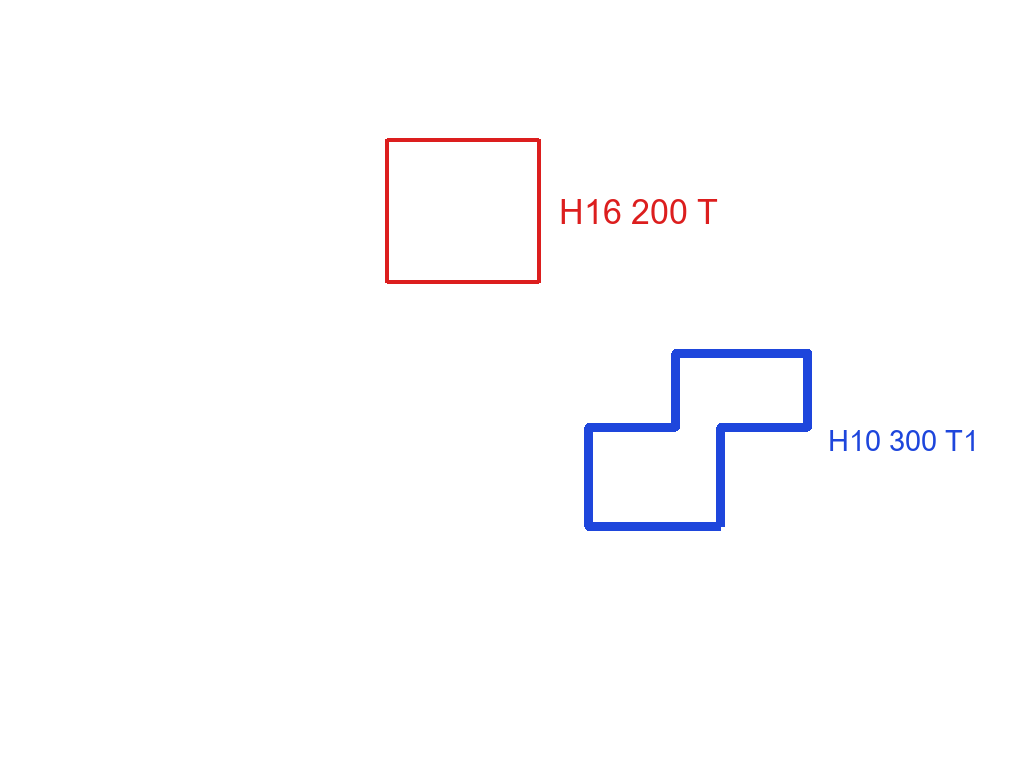shape: (582, 347, 814, 533), (384, 136, 543, 286)
text: (557, 197, 720, 226), (826, 428, 981, 453)
